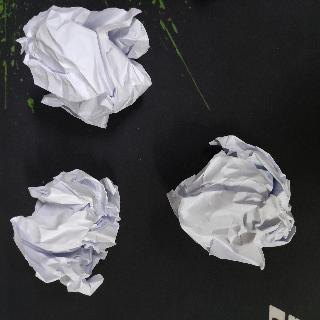8/可回收垃圾/纸: (165, 133, 297, 272), (15, 3, 153, 130), (8, 168, 122, 299)
